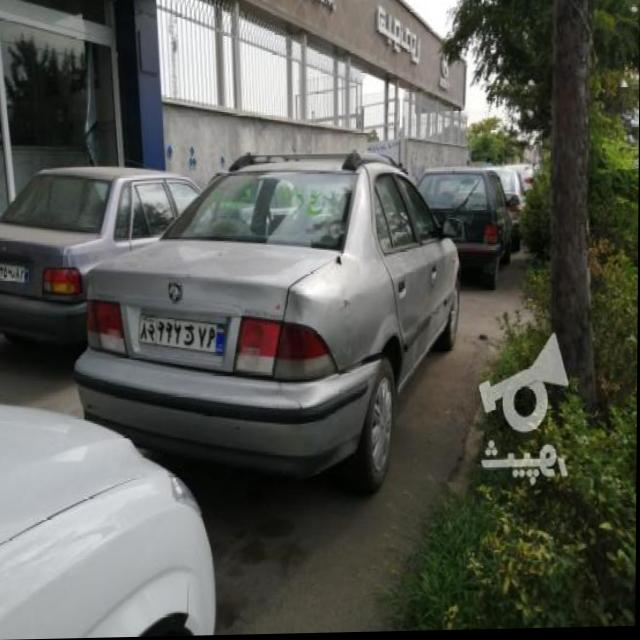licence: (141, 309, 226, 359), (0, 264, 31, 284)
